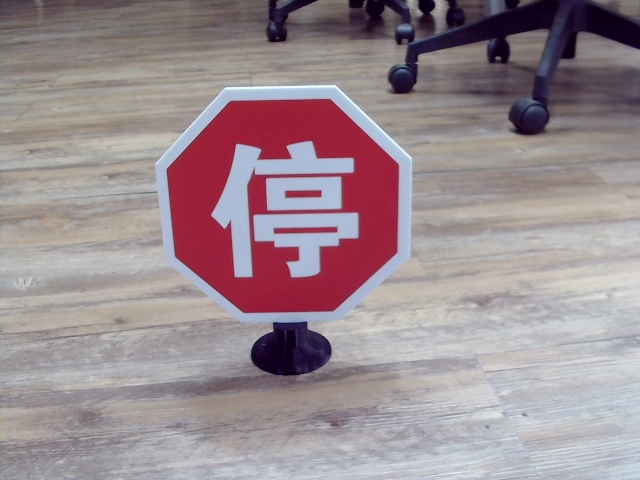stop: (207, 138, 357, 278)
